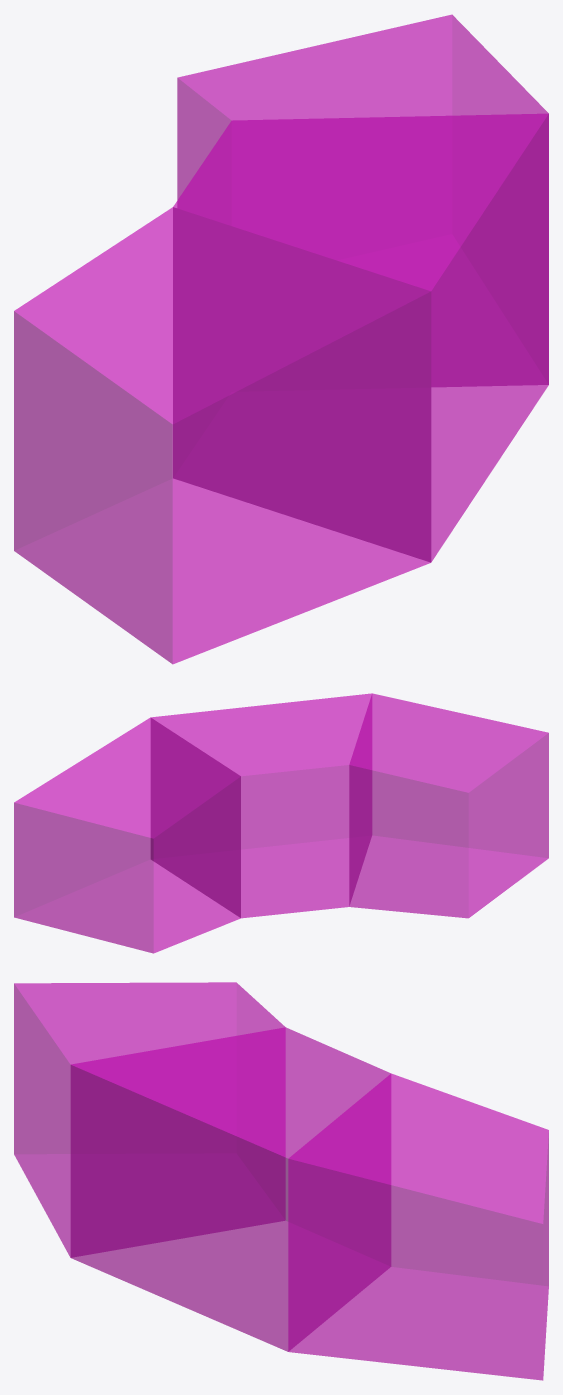
Rendered from SM_Bld_Wall_L_Curve_Half_Damaged_05_Collision.fbx.
The picture shows the model from 3 angles, top to bottom: view 1: azimuth 30°, elevation 25°; view 2: azimuth 150°, elevation 25°; view 3: azimuth 270°, elevation 25°; orthographic projection. The views are drawn at different scales.
Parts seen in each view (by area): view 1: SM_Bld_Wall_L_Curve_Half_Damaged_05_Collision; view 2: SM_Bld_Wall_L_Curve_Half_Damaged_05_Collision; view 3: SM_Bld_Wall_L_Curve_Half_Damaged_05_Collision.
Boxes of the visible parts, left/top/right/bottom form: SM_Bld_Wall_L_Curve_Half_Damaged_05_Collision: left=14, top=14, right=548, bottom=664; SM_Bld_Wall_L_Curve_Half_Damaged_05_Collision: left=14, top=693, right=548, bottom=953; SM_Bld_Wall_L_Curve_Half_Damaged_05_Collision: left=14, top=982, right=548, bottom=1380.
Bounding box in the file's own units: 389 × 154 × 387.
